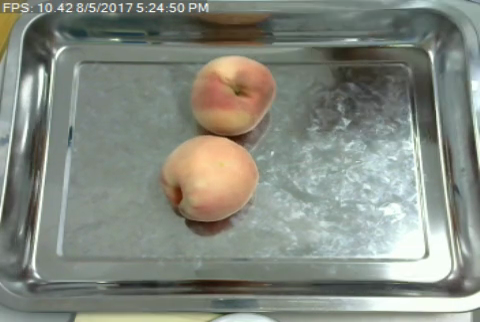Peach: (161, 135, 258, 221), (188, 53, 278, 136)
